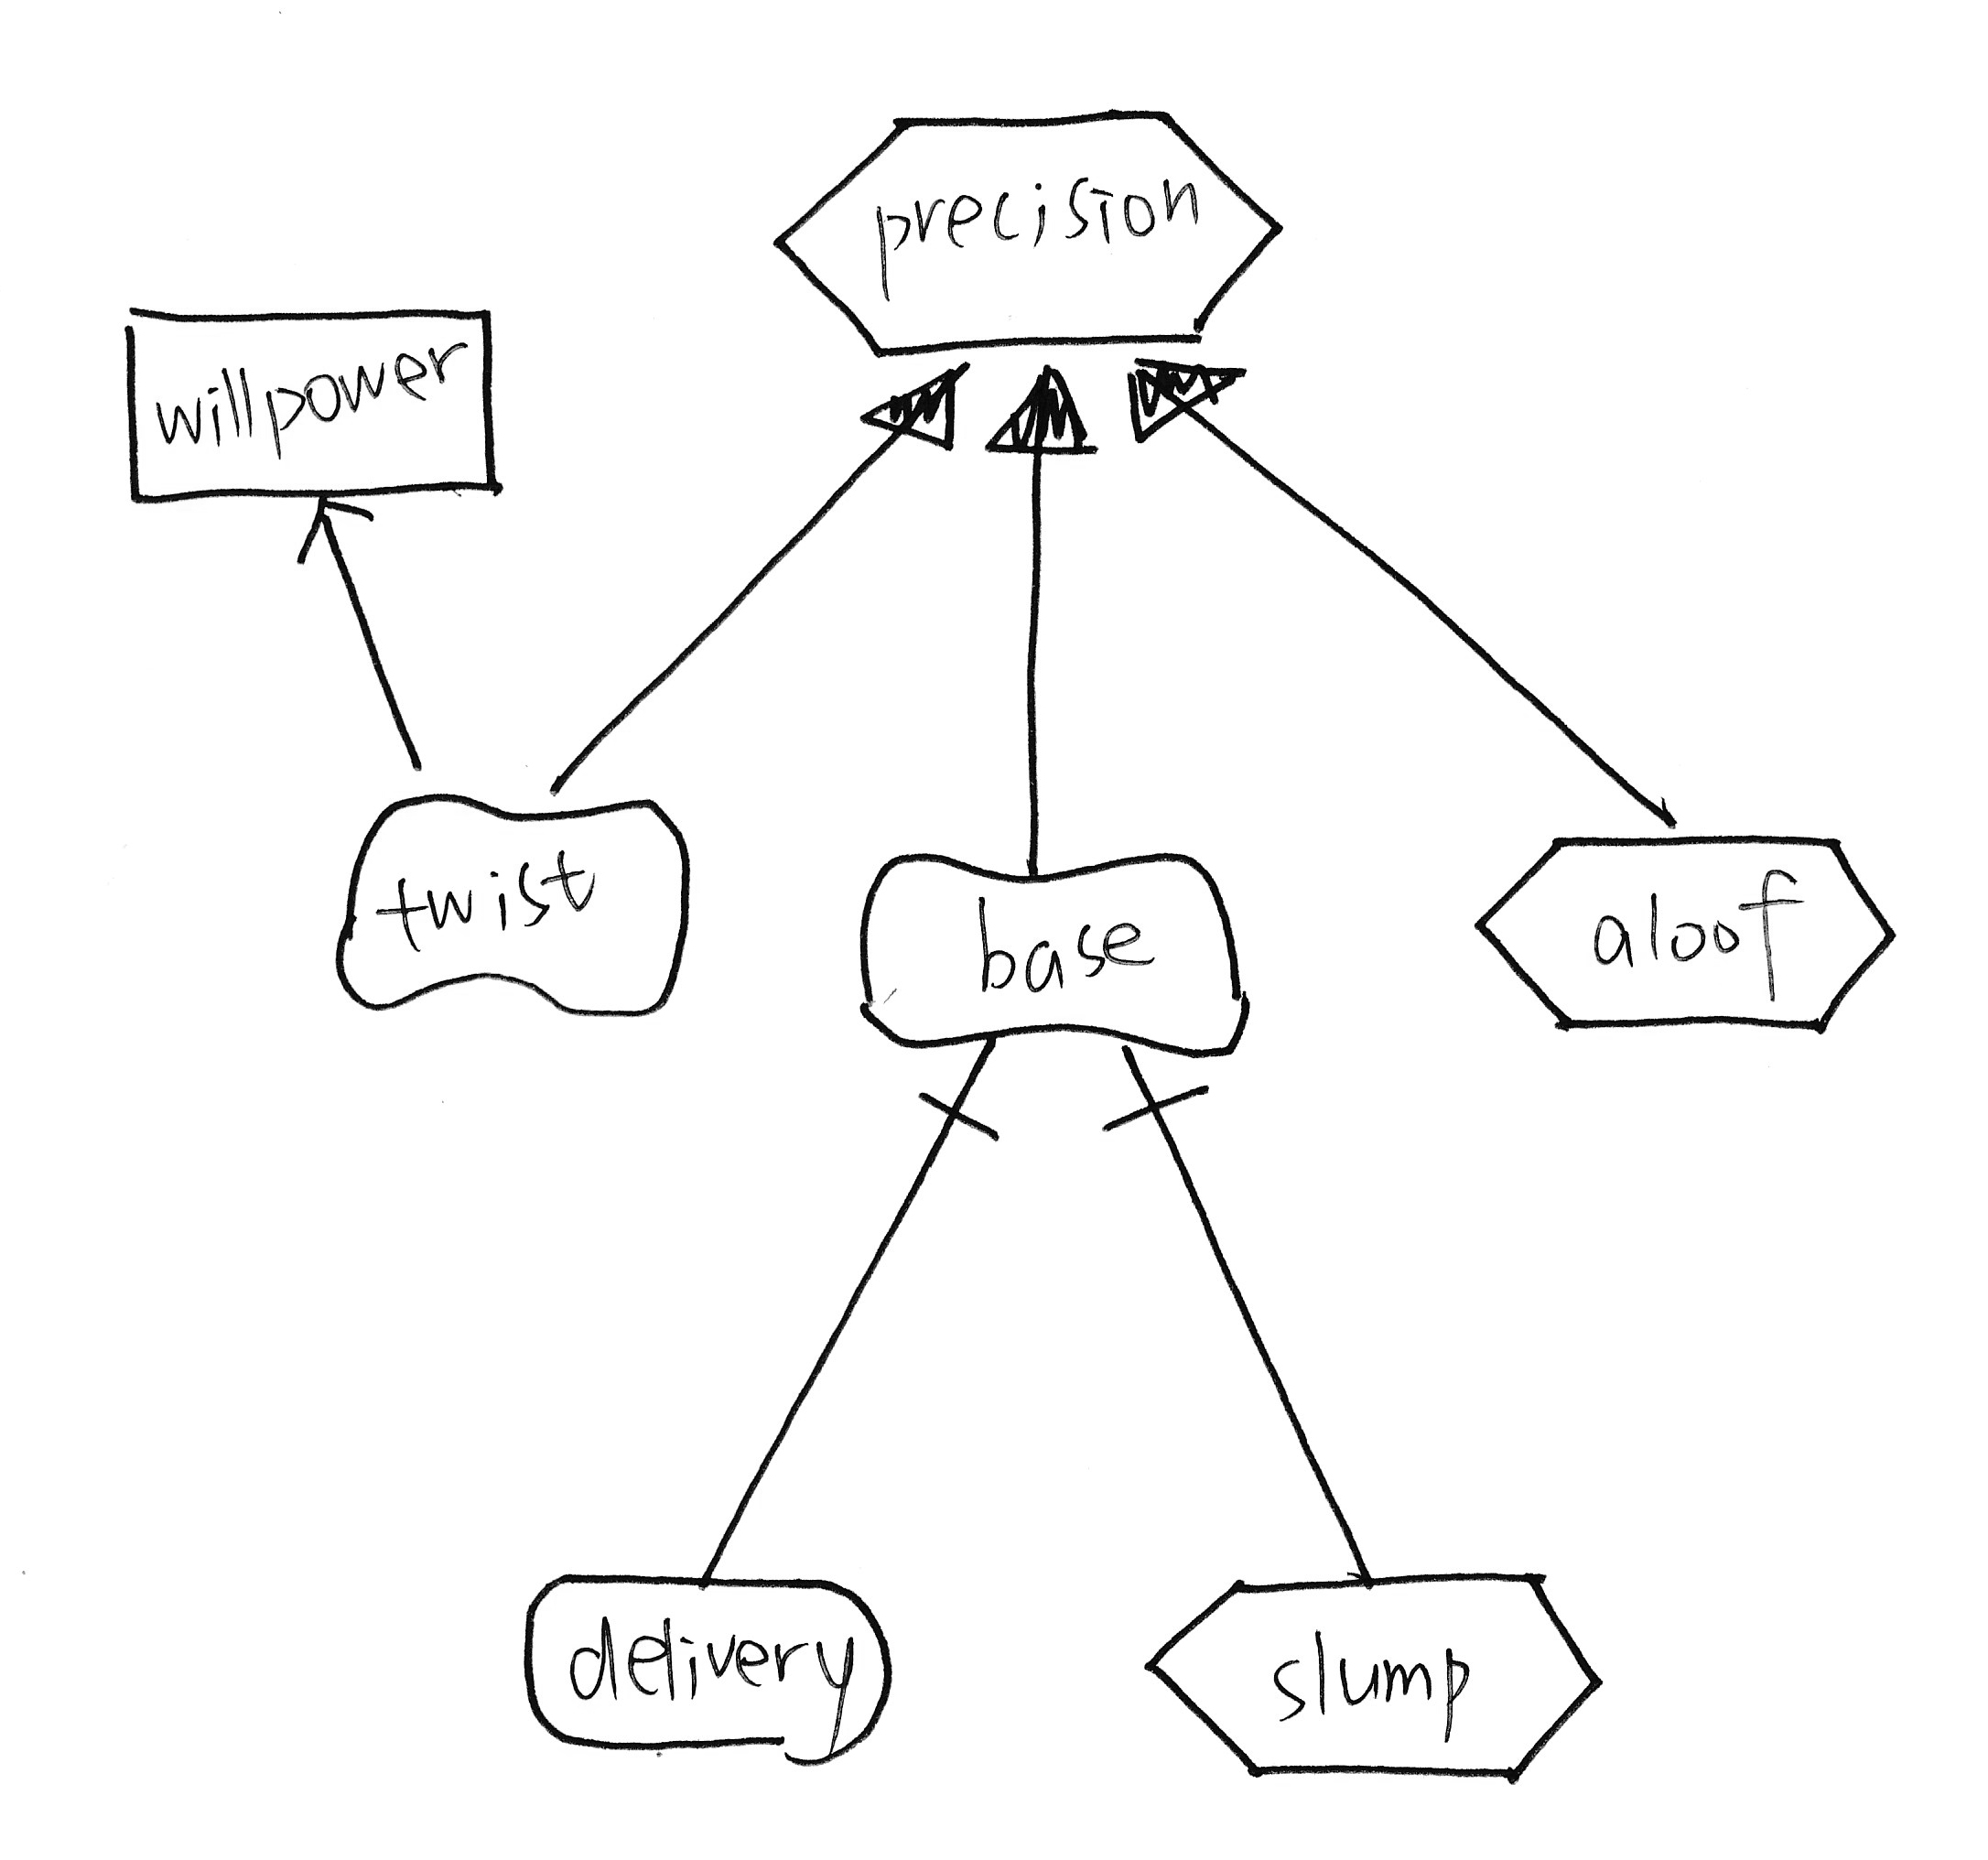and: (1093, 1021, 1229, 1154), (906, 1021, 1023, 1162)
arrow: (285, 481, 397, 584)
goal: (507, 1551, 913, 1787)
or: (965, 355, 1105, 474), (1109, 334, 1255, 446), (852, 346, 979, 472)
quality: (839, 832, 1280, 1082), (318, 773, 712, 1040)
resource: (100, 281, 530, 538)
task: (757, 84, 1301, 385), (1119, 1552, 1619, 1811), (1451, 811, 1916, 1065)
